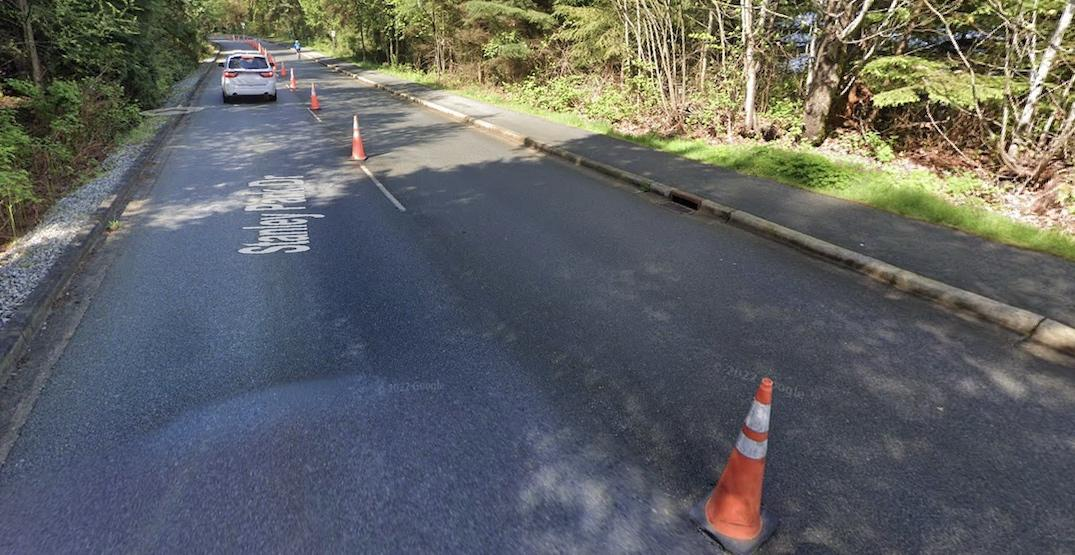car: (220, 52, 278, 104)
traffic cone: (690, 375, 780, 553), (348, 114, 368, 161), (284, 63, 297, 90), (309, 83, 321, 112), (288, 65, 298, 90)
